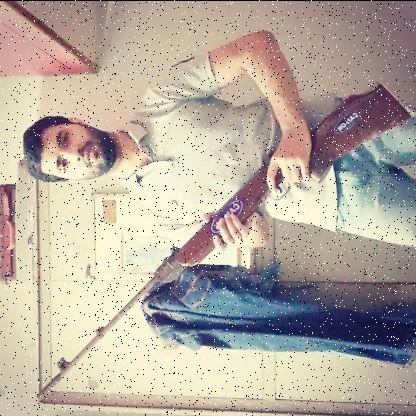rifle: (34, 75, 416, 401)
